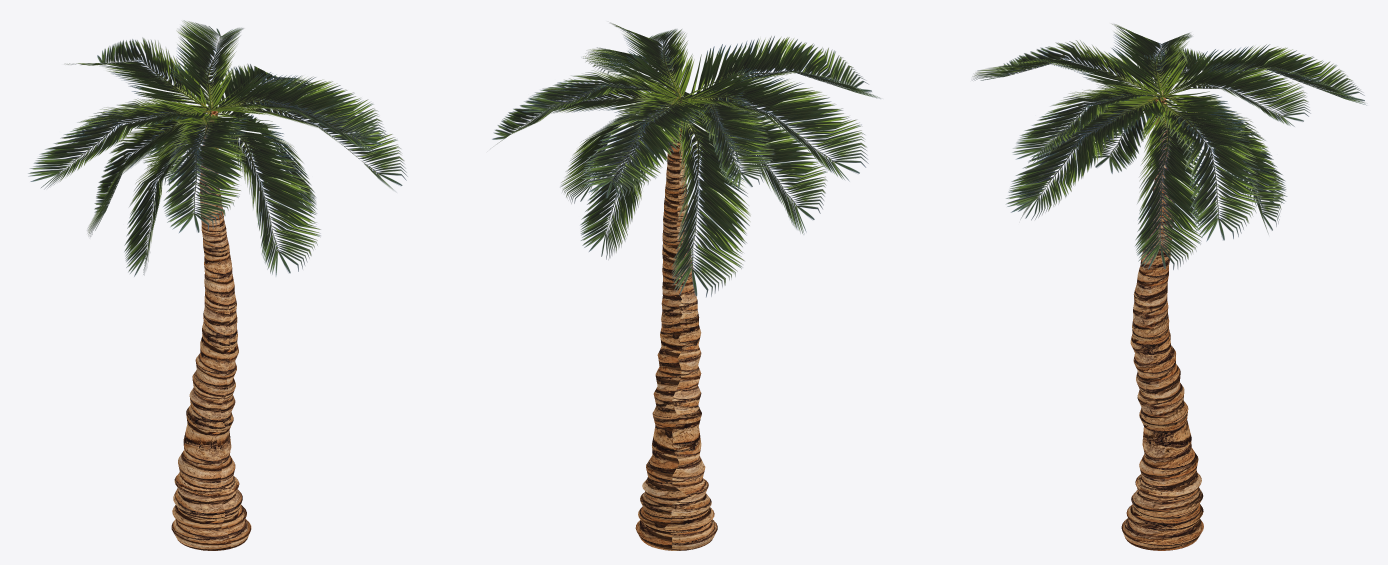
File: palm1.glb
3 renders of one model, left to right at view 1: azimuth 30°, elevation 25°; view 2: azimuth 150°, elevation 25°; view 3: azimuth 270°, elevation 25°, orthographic. The views are drawn at different scales.
Parts seen in each view (by area): view 1: Tree; view 2: Tree; view 3: Tree.
Boxes of the visible parts, box(x1,y1,x2,y2) form: Tree: box(28, 20, 407, 550); Tree: box(492, 22, 880, 550); Tree: box(972, 24, 1366, 550).
Bounding box in the file's own units: 4.89 × 6.11 × 5.05.
2 materials, 2 textured.
